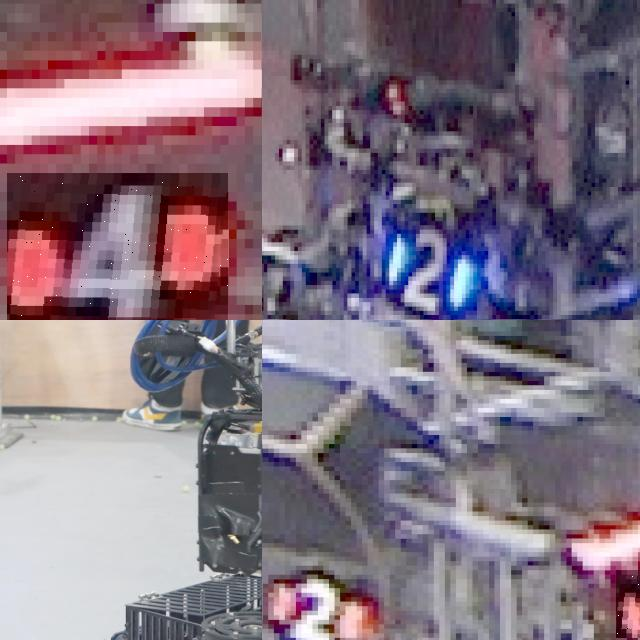B2: (382, 230, 473, 310)
R2: (262, 570, 367, 640), (615, 570, 640, 637)
R4: (6, 173, 228, 320)
